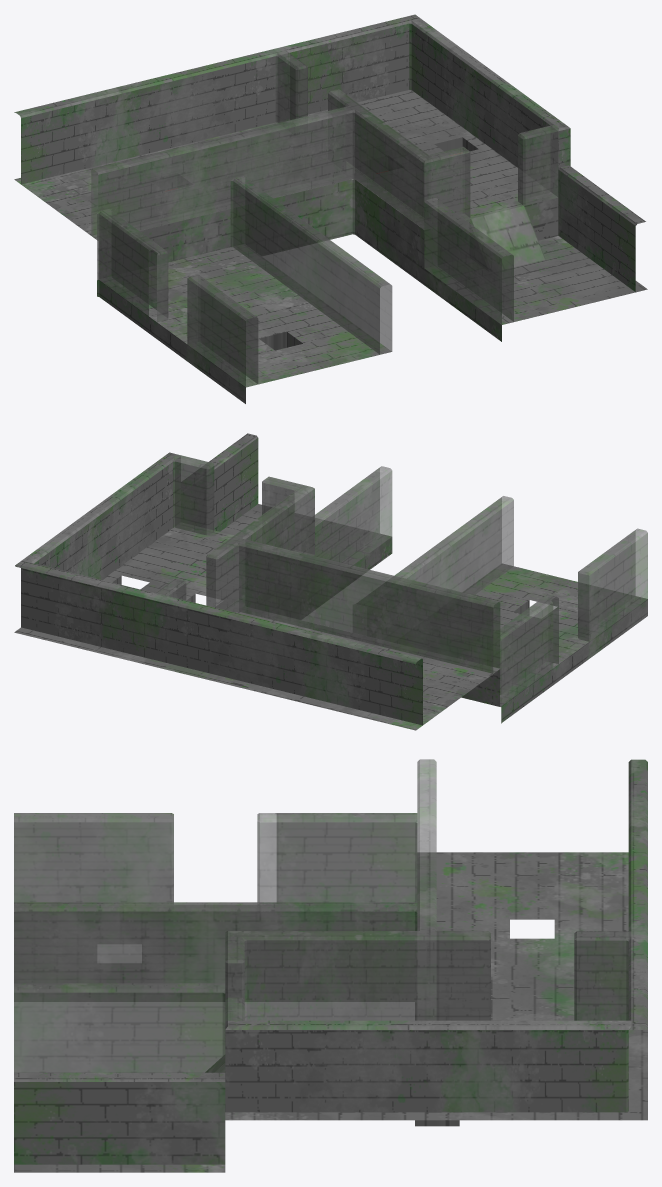
File: lvl_1-cnk_4.obj
3 renders of one model, top to bottom at view 1: azimuth 30°, elevation 25°; view 2: azimuth 150°, elevation 25°; view 3: azimuth 270°, elevation 25°, orthographic. The views are drawn at different scales.
Parts seen in each view (by area): view 1: Cube.174, Cube.175, Cube.178, Cube.183, Cube.181, Cube.182, Cube.176, Cube.177, Cube.184, Cube.180, Cube.179; view 2: Cube.174, Cube.175, Cube.178, Cube.181, Cube.183, Cube.177, Cube.182, Cube.176, Cube.184, Cube.180, Cube.179; view 3: Cube.174, Cube.181, Cube.178, Cube.183, Cube.176, Cube.182, Cube.184, Cube.177, Cube.175, Cube.179.
Part boxes in pixels (x1,y1,x2,y2): Cube.174: (14, 90, 647, 403); Cube.175: (14, 14, 419, 184); Cube.178: (91, 89, 470, 240); Cube.183: (230, 176, 392, 354); Cube.181: (409, 18, 570, 196); Cube.182: (424, 198, 513, 324); Cube.176: (558, 165, 645, 291); Cube.177: (187, 275, 258, 386); Cube.184: (97, 209, 168, 321); Cube.180: (518, 125, 558, 205); Cube.179: (275, 51, 307, 122); Cube.174: (14, 504, 647, 730); Cube.175: (15, 560, 422, 725); Cube.178: (206, 476, 500, 673); Cube.181: (22, 452, 180, 579); Cube.183: (394, 496, 513, 595); Cube.177: (578, 528, 647, 641); Cube.182: (315, 466, 392, 565); Cube.176: (181, 433, 258, 531); Cube.184: (493, 594, 558, 706); Cube.180: (173, 454, 214, 535); Cube.179: (156, 578, 186, 600); Cube.174: (14, 852, 647, 1172); Cube.181: (225, 1020, 631, 1112); Cube.178: (225, 759, 490, 1020); Cube.183: (14, 902, 417, 983); Cube.176: (14, 1072, 225, 1164); Cube.182: (14, 983, 225, 1072); Cube.184: (257, 813, 417, 902); Cube.177: (14, 813, 173, 902); Cube.175: (628, 759, 647, 1029); Cube.179: (574, 931, 631, 1020).
Bounding box in the file's own units: 99.33 × 29.04 × 99.
Materials: 4 (4 with a texture image).
